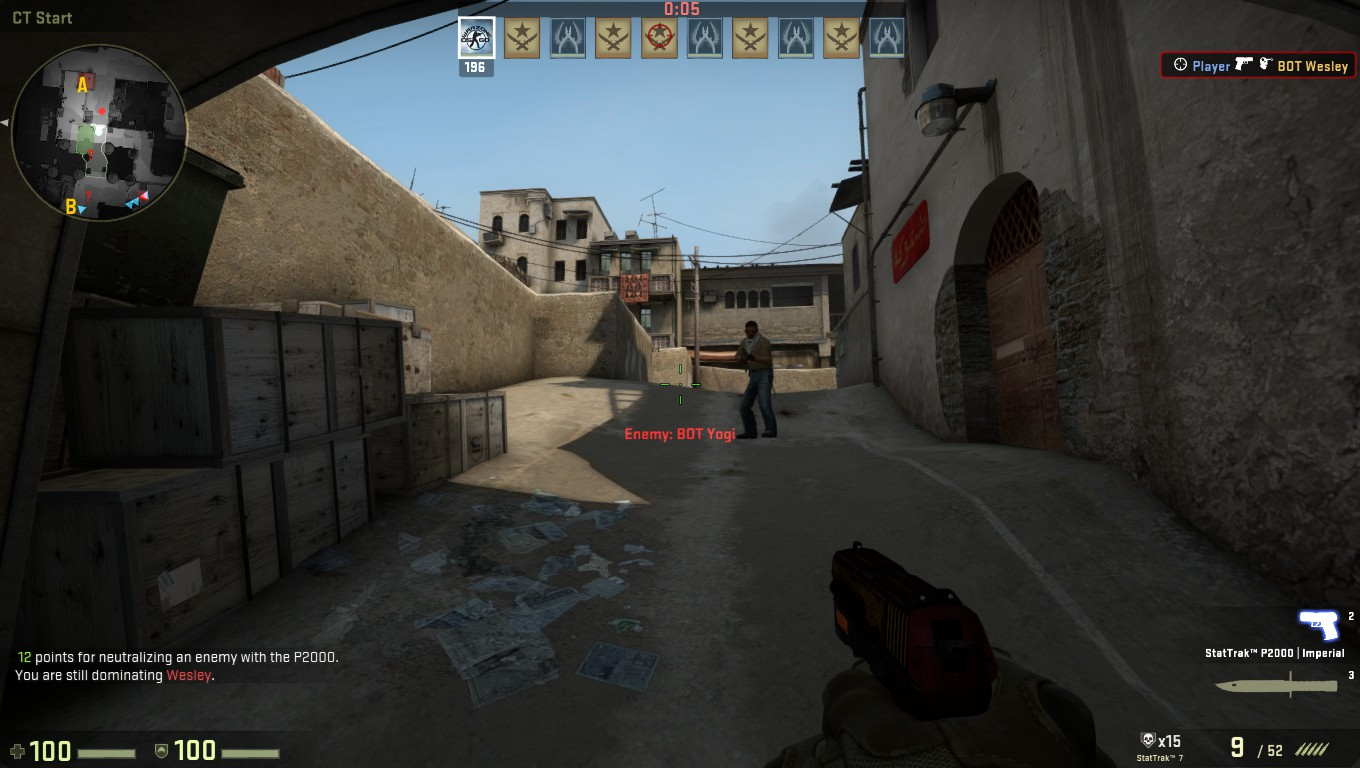t: (737, 318, 780, 441)
th: (744, 319, 761, 341)
